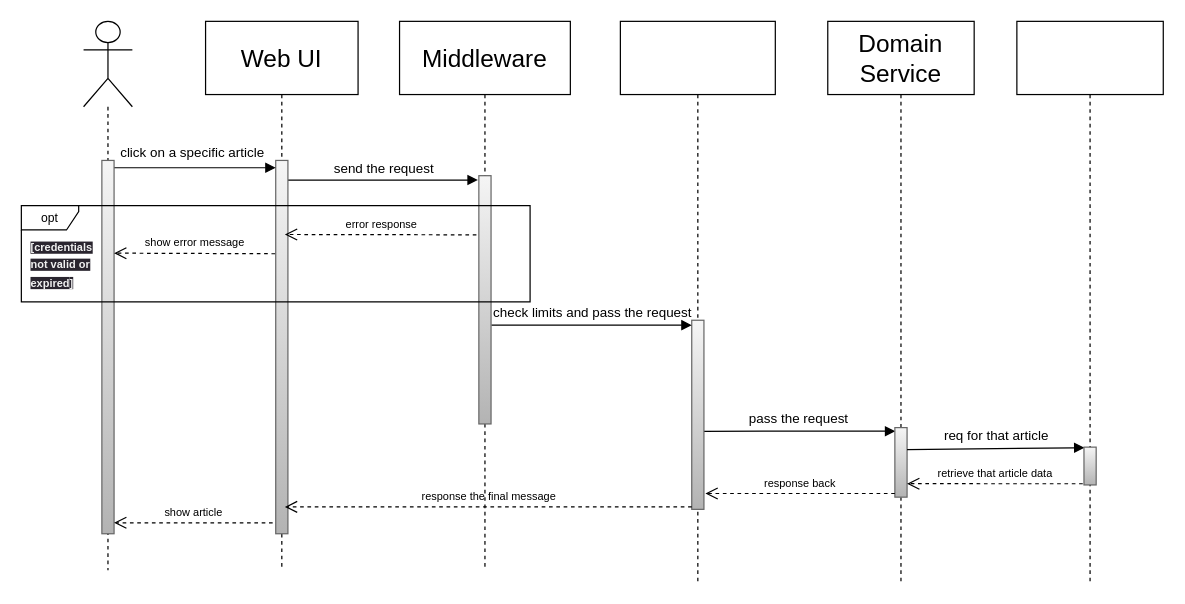
Image size: 1185x604. Some labels were removed from this diagram. The shapes that lost their labels are listed below. From the top down, each one's box as (x1, y1, x2, y2) in pixels, then its label:
(619, 20, 775, 583): Application Service
(1016, 20, 1163, 583): Database
